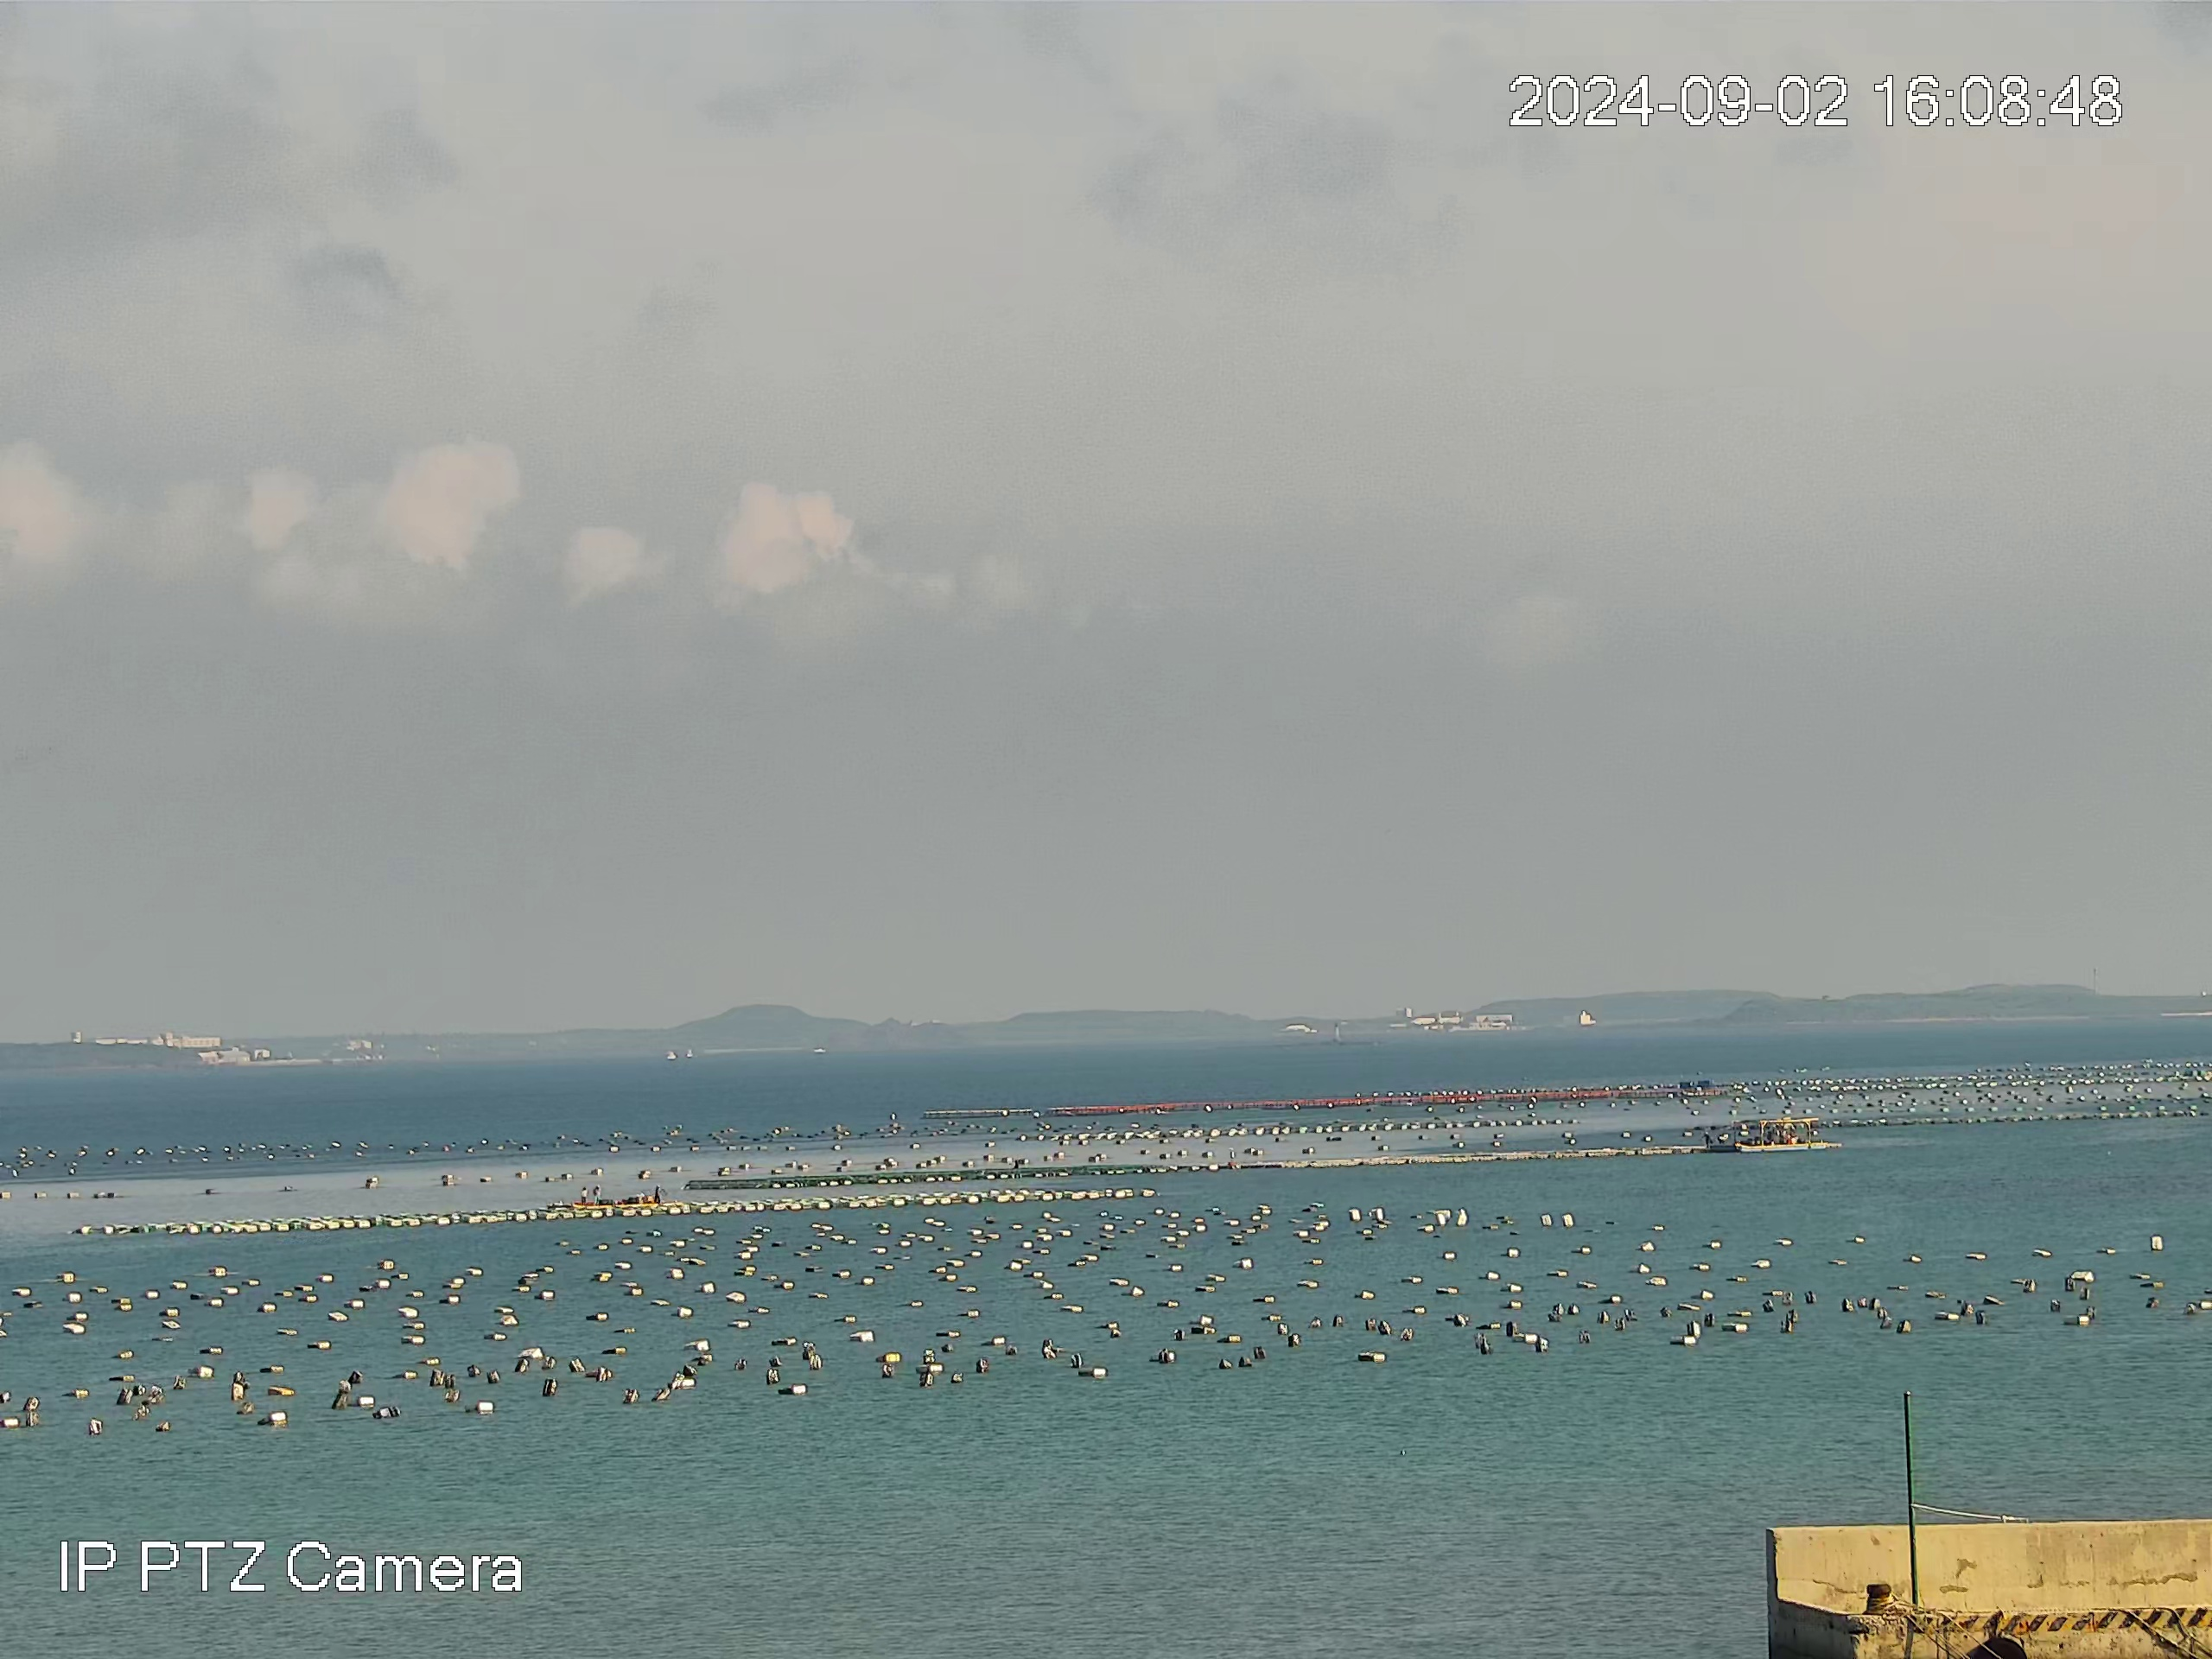boat: (1733, 1117, 1827, 1154), (570, 1183, 664, 1209)
